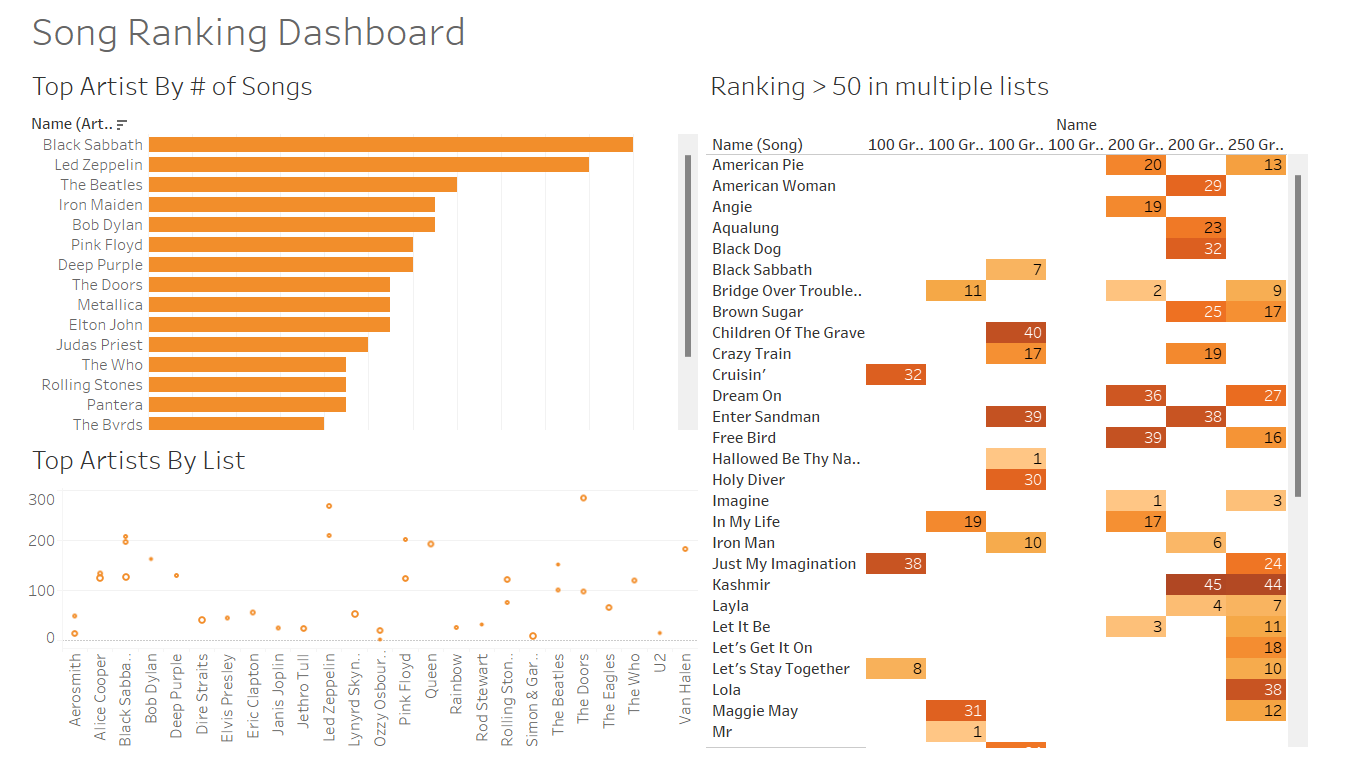

This screenshot's page, from the dashboard's own definition file:
{"tool":"tableau","page":{"name":"Dashboard 1","canvas":[1366,768],"ordinal":0},"visuals":[{"type":"title","box":[8,8,1350,60]},{"type":"worksheet","title":"# of songs by Artist","mark":"Automatic","rows":["name (artist)"],"cols":["artistid"],"box":[8,68,678.1,374]},{"type":"worksheet","title":"Ranking > 50 in multiple lists","mark":"Square","rows":["name (song)"],"cols":["name"],"box":[686.1,68,671.9,692]},{"type":"worksheet","title":"Top Artists By List","mark":"Shape","rows":["ranking"],"cols":["name (artist)"],"box":[8,442,678.1,318]}]}

Visuals, with their boxes in screenshot pixels (x1, y1, x2, y2), scaled from the page's 1366x768 canvas onto the 1345x778 screenshot:
title: 8,8,1337,69
"# of songs by Artist" worksheet: 8,69,676,448
"Ranking > 50 in multiple lists" worksheet (Square marks): 676,69,1337,770
"Top Artists By List" worksheet (Shape marks): 8,448,676,770
